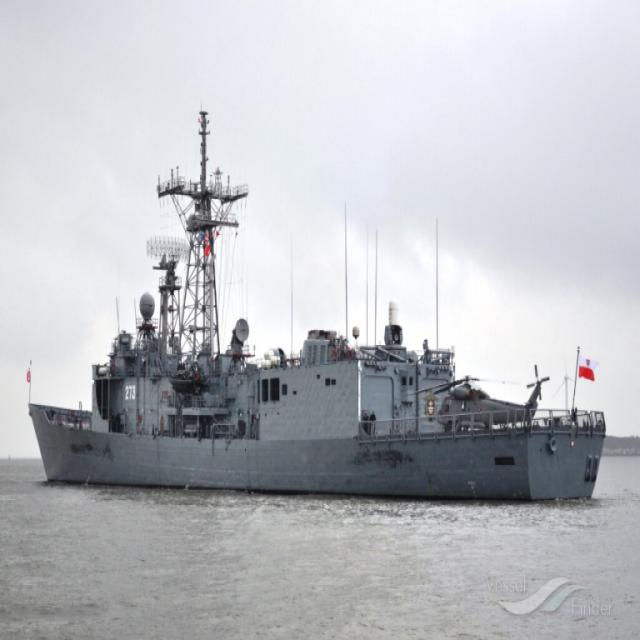OCR: (120, 382, 141, 408)
